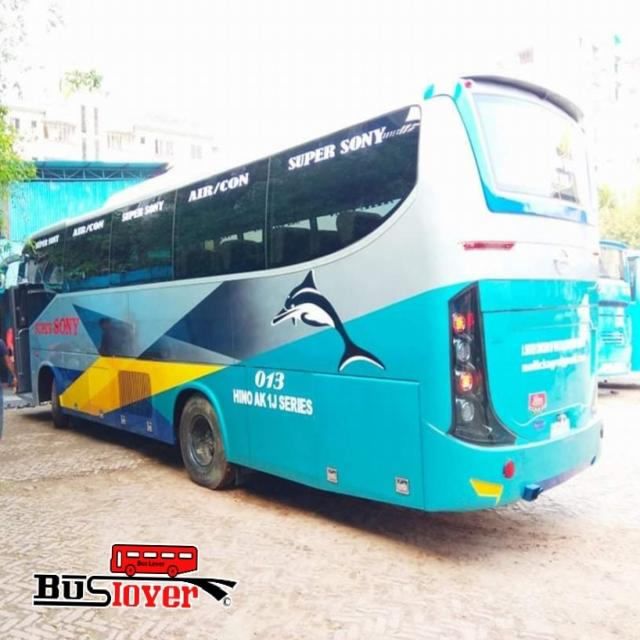bus: (0, 68, 604, 512)
